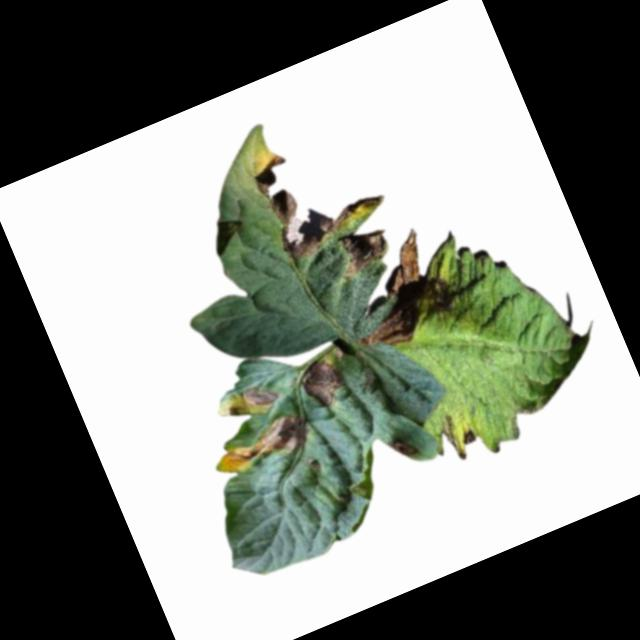Early_blight: (247, 121, 394, 265), (328, 227, 455, 360), (212, 404, 313, 480), (330, 219, 397, 281), (291, 352, 350, 415), (236, 377, 282, 418), (388, 432, 420, 465), (456, 425, 478, 447)
